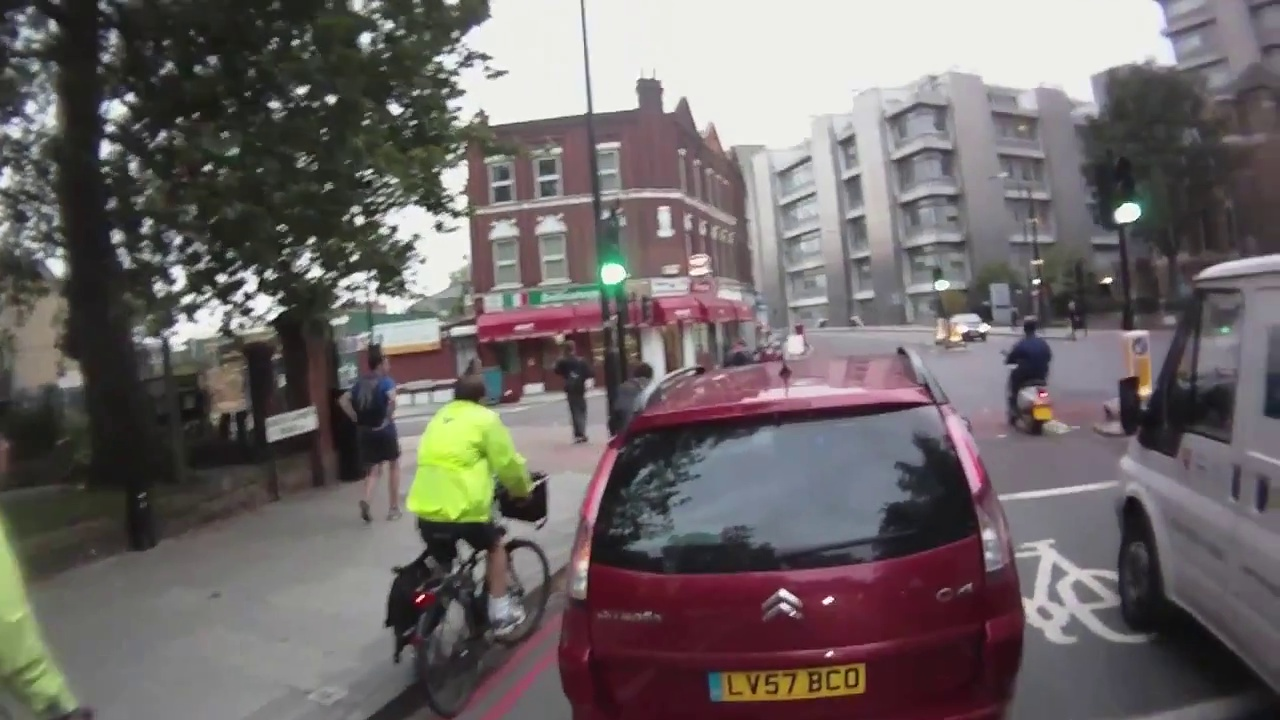cyclist_back: (384, 370, 560, 686), (997, 315, 1061, 440)
